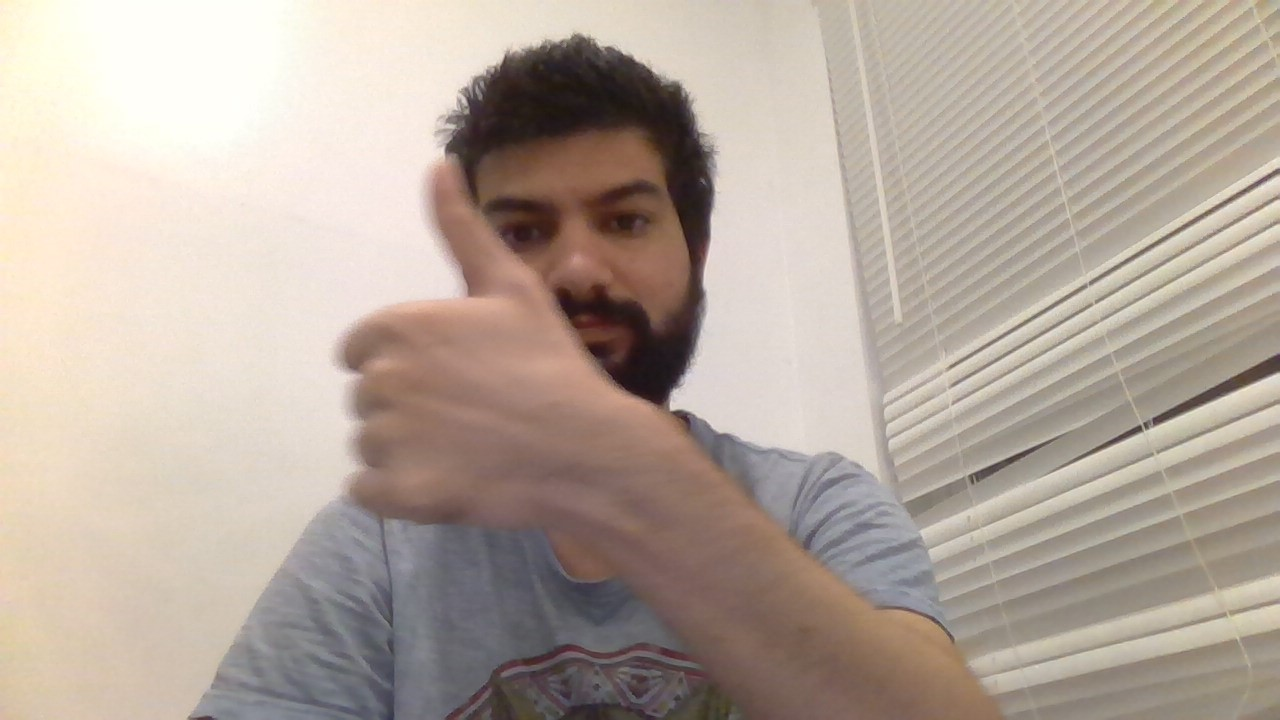up: (312, 144, 600, 539)
